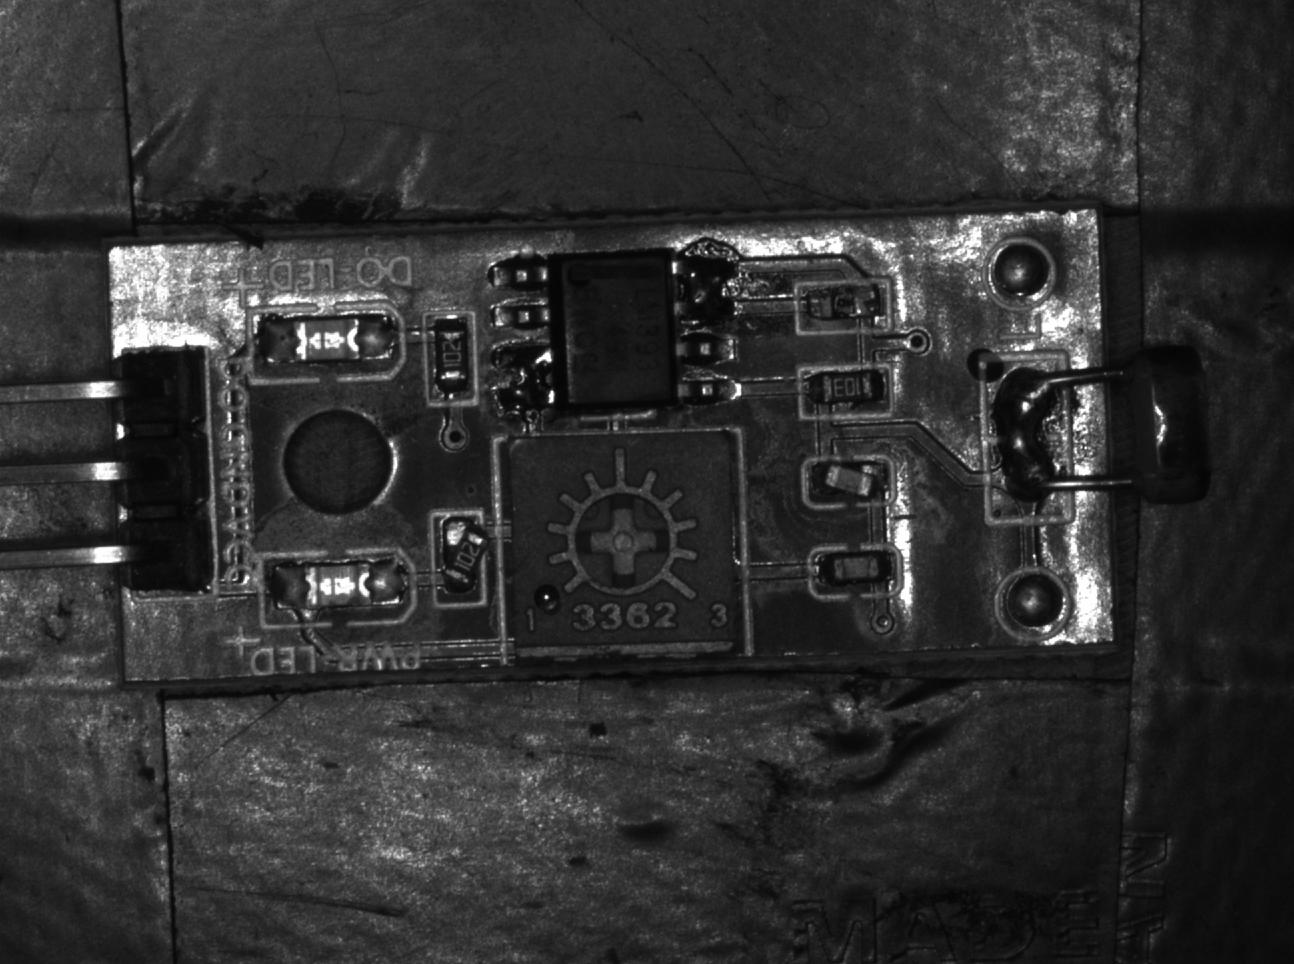bridge: (979, 358, 1073, 523), (671, 246, 739, 331), (490, 341, 555, 416)
lifted: (432, 510, 486, 605), (804, 457, 896, 504)
miss: (795, 280, 893, 334)
ok: (425, 313, 475, 405), (811, 547, 901, 597), (799, 366, 890, 414)
